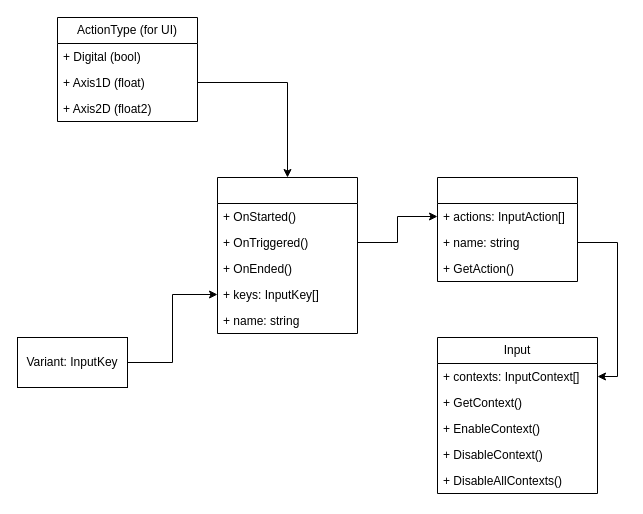
Image size: 643x514. Some labels were removed from this diagram. Here are the shapes that lost their labels. From the top down, the box of each, then its label:
(436, 176, 578, 282): InputContext
(216, 176, 358, 334): InputAction
